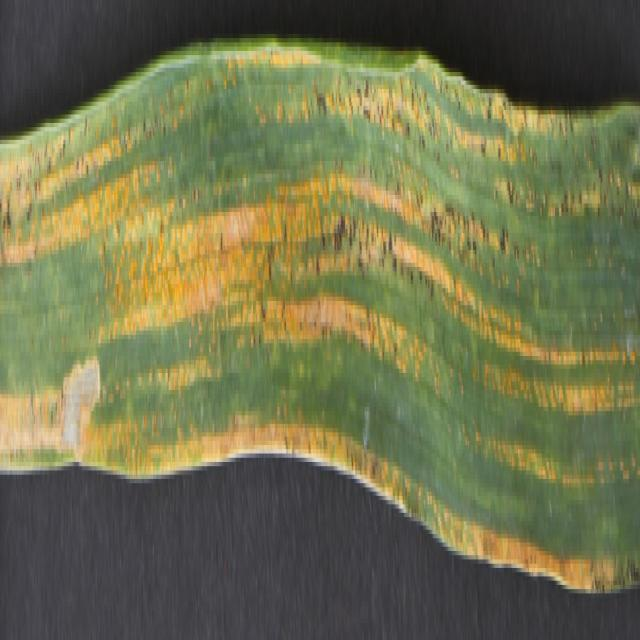leaf rust: (1, 46, 638, 576)
